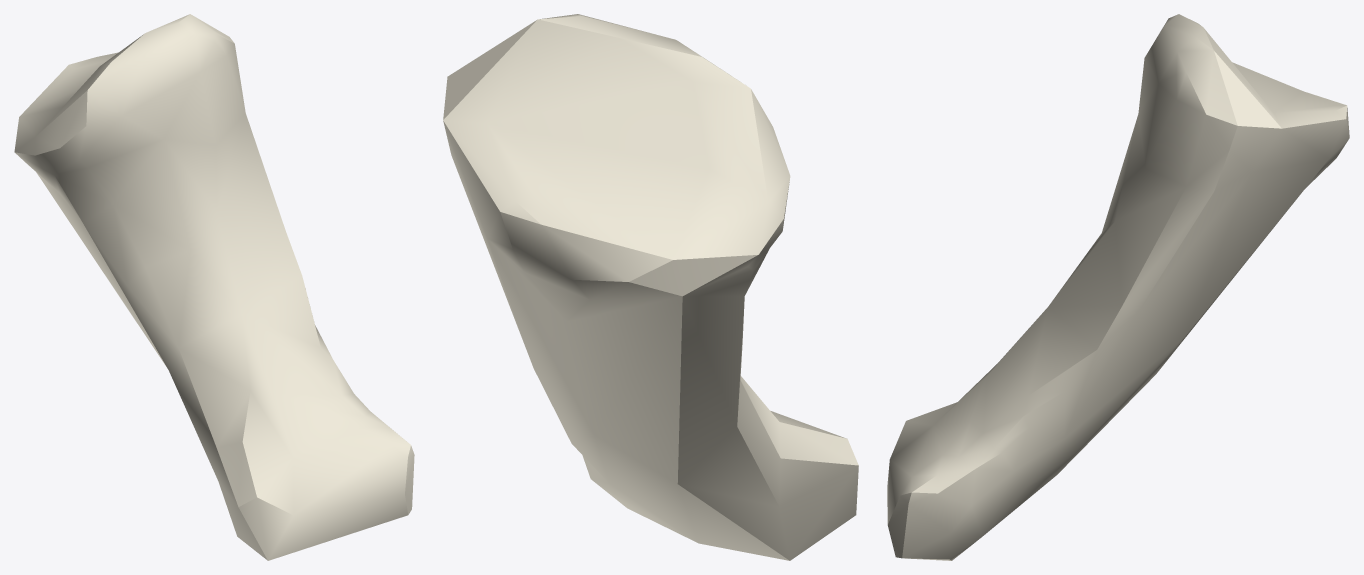
Rendered from fma24458_fj3304.glb.
3 renders of one model, left to right at view 1: azimuth 30°, elevation 25°; view 2: azimuth 150°, elevation 25°; view 3: azimuth 270°, elevation 25°, orthographic. The views are drawn at different scales.
Visible parts, largest first — view 1: FMA24458_FJ3304; view 2: FMA24458_FJ3304; view 3: FMA24458_FJ3304.
Part boxes in pixels (x1,y1,x2,y2): FMA24458_FJ3304: (14, 14, 414, 560); FMA24458_FJ3304: (443, 14, 858, 560); FMA24458_FJ3304: (887, 14, 1349, 560).
Bounding box in the file's own units: 0.0116 × 0.0196 × 0.0166.
